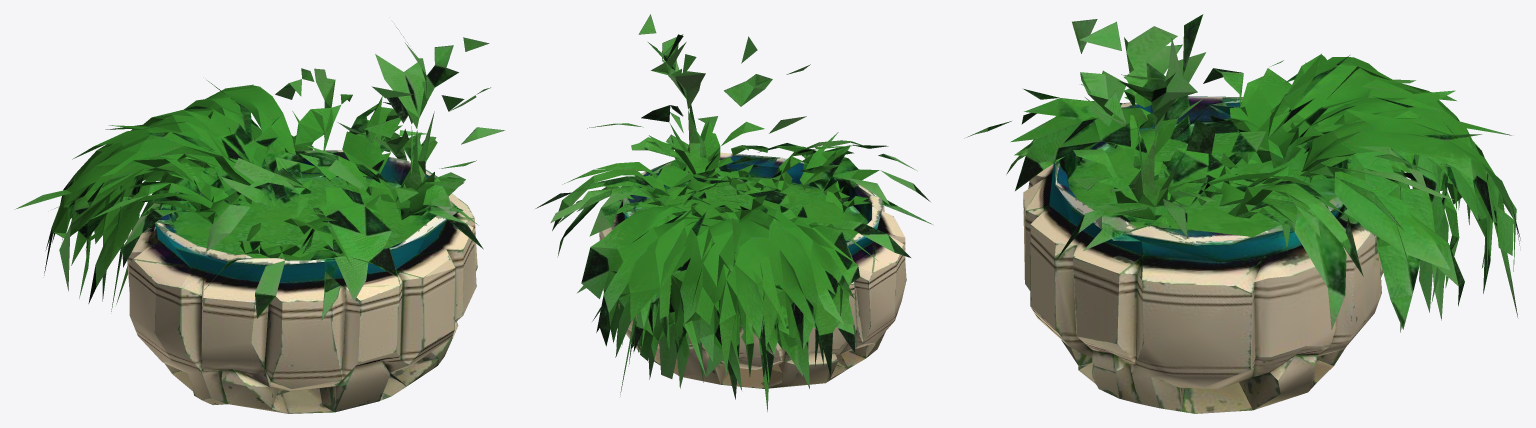
Rendered from plant-pod.glb.
3 renders of one model, left to right at view 1: azimuth 30°, elevation 25°; view 2: azimuth 150°, elevation 25°; view 3: azimuth 270°, elevation 25°, orthographic. The views are drawn at different scales.
Size of the model in its own units: 1.23 by 1 by 1.31.
Materials: 1 (1 with a texture image).
